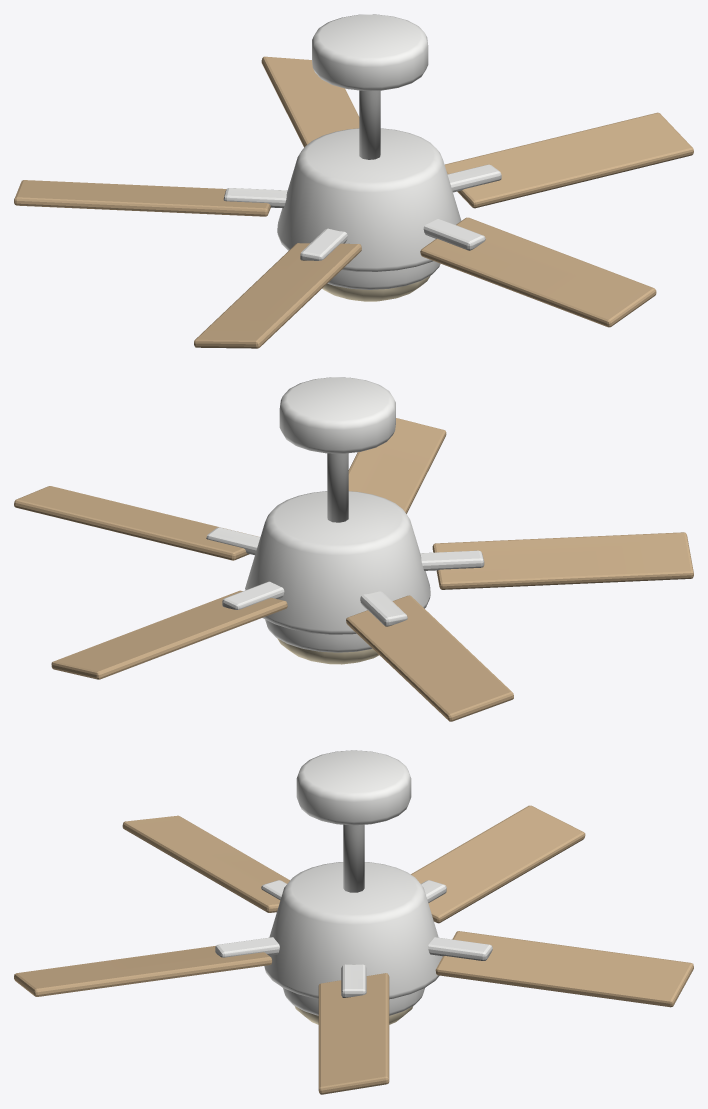
The model's file is ceilingFan.glb.
3 views of the same model, one above another, from view 1: azimuth 30°, elevation 25°; view 2: azimuth 150°, elevation 25°; view 3: azimuth 270°, elevation 25° (orthographic). The views are drawn at different scales.
Parts seen in each view (by area): view 1: blades, ceilingFan; view 2: blades, ceilingFan; view 3: blades, ceilingFan.
Part boxes in pixels (x1,y1,x2,y2): blades: (14, 56, 693, 348); ceilingFan: (277, 14, 461, 301); blades: (14, 418, 693, 721); ceilingFan: (245, 377, 430, 664); blades: (14, 805, 693, 1094); ceilingFan: (264, 750, 442, 1024).
Bounding box in the file's own units: 0.9049 × 0.385 × 0.9507.
